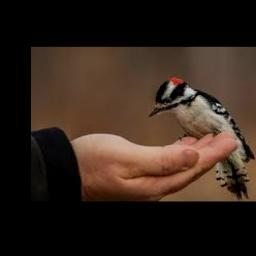Woodpecker: (149, 76, 255, 201)
